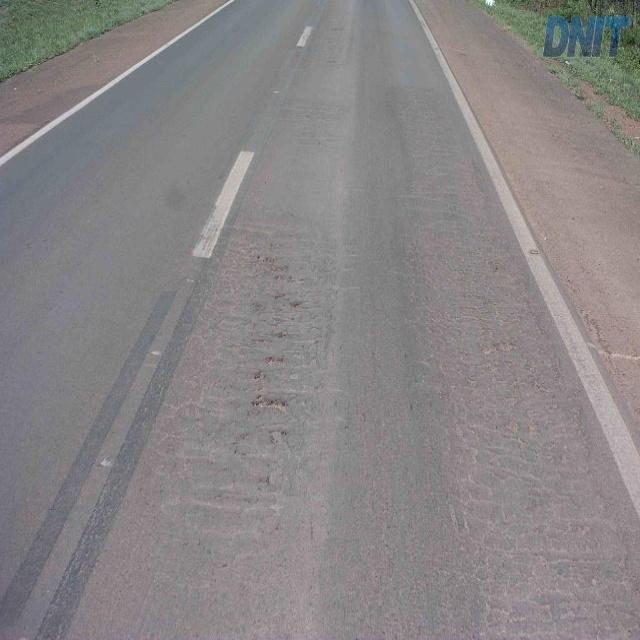pothole: (239, 251, 308, 507)
